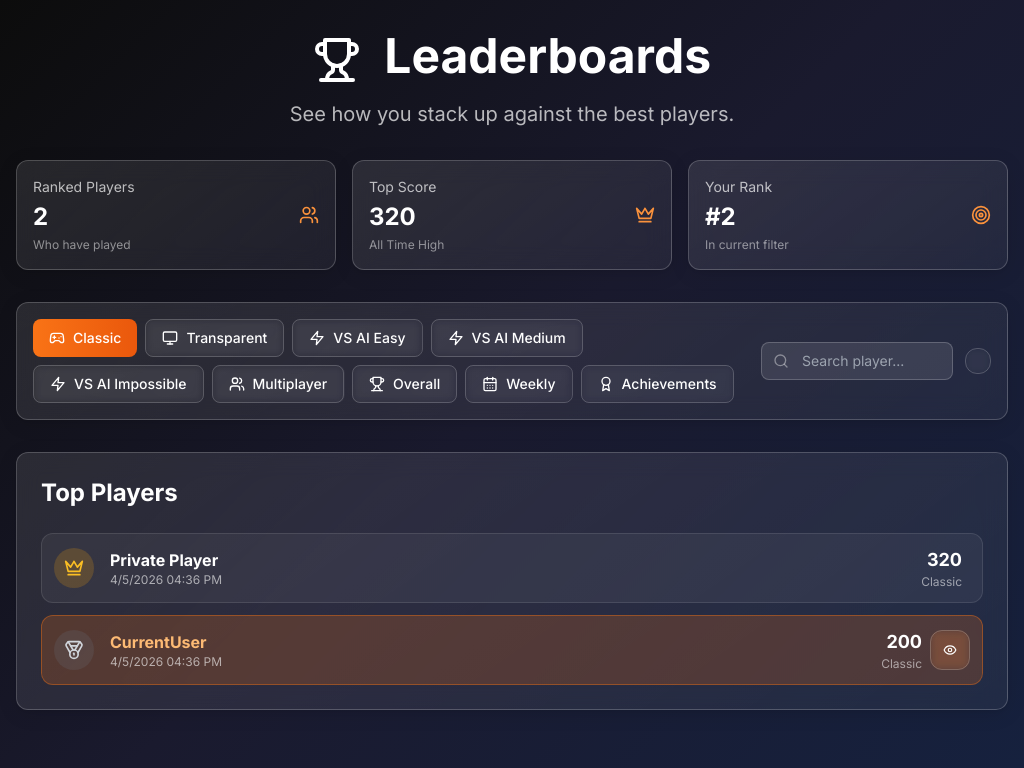
Scenario: LeaderboardPage › loads weekly leaderboard source when weekly filter is selected
Expected: the text "Private Player" is shown, [110, 548, 222, 572]
Click the button "Weekly" at coordinates (519, 384), box [465, 365, 572, 403]
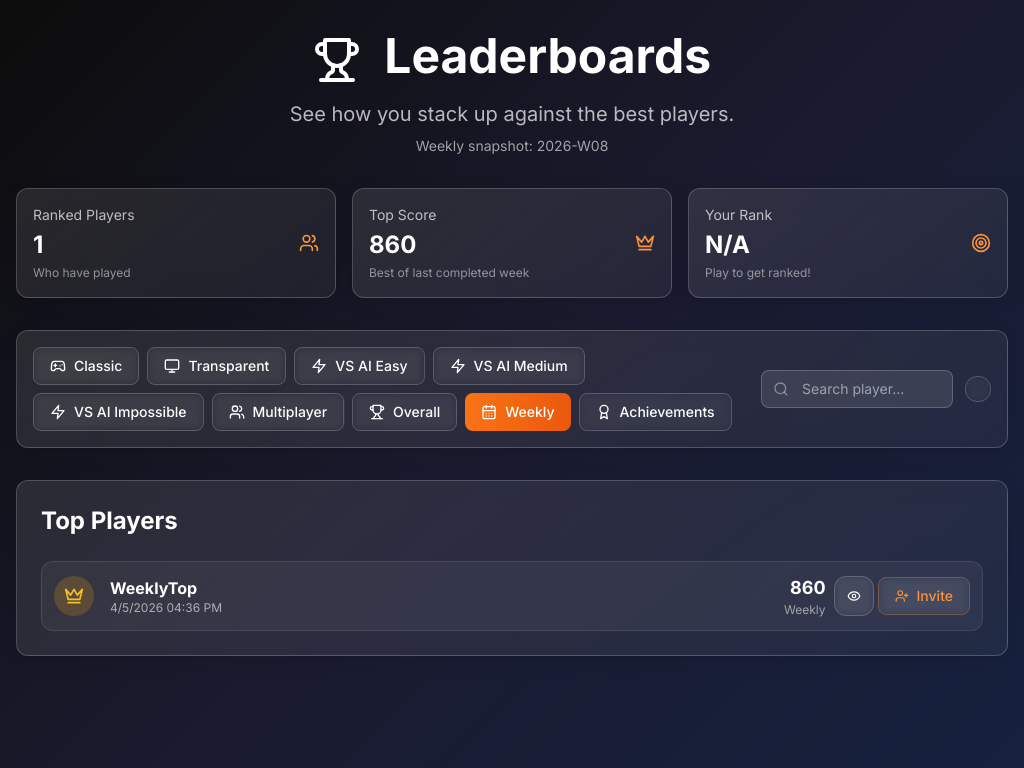
Result: the text "WeeklyTop" is shown at [110, 578, 197, 598]
Result: the text "Weekly snapshot: 2026-W08" is shown at [416, 137, 608, 154]
